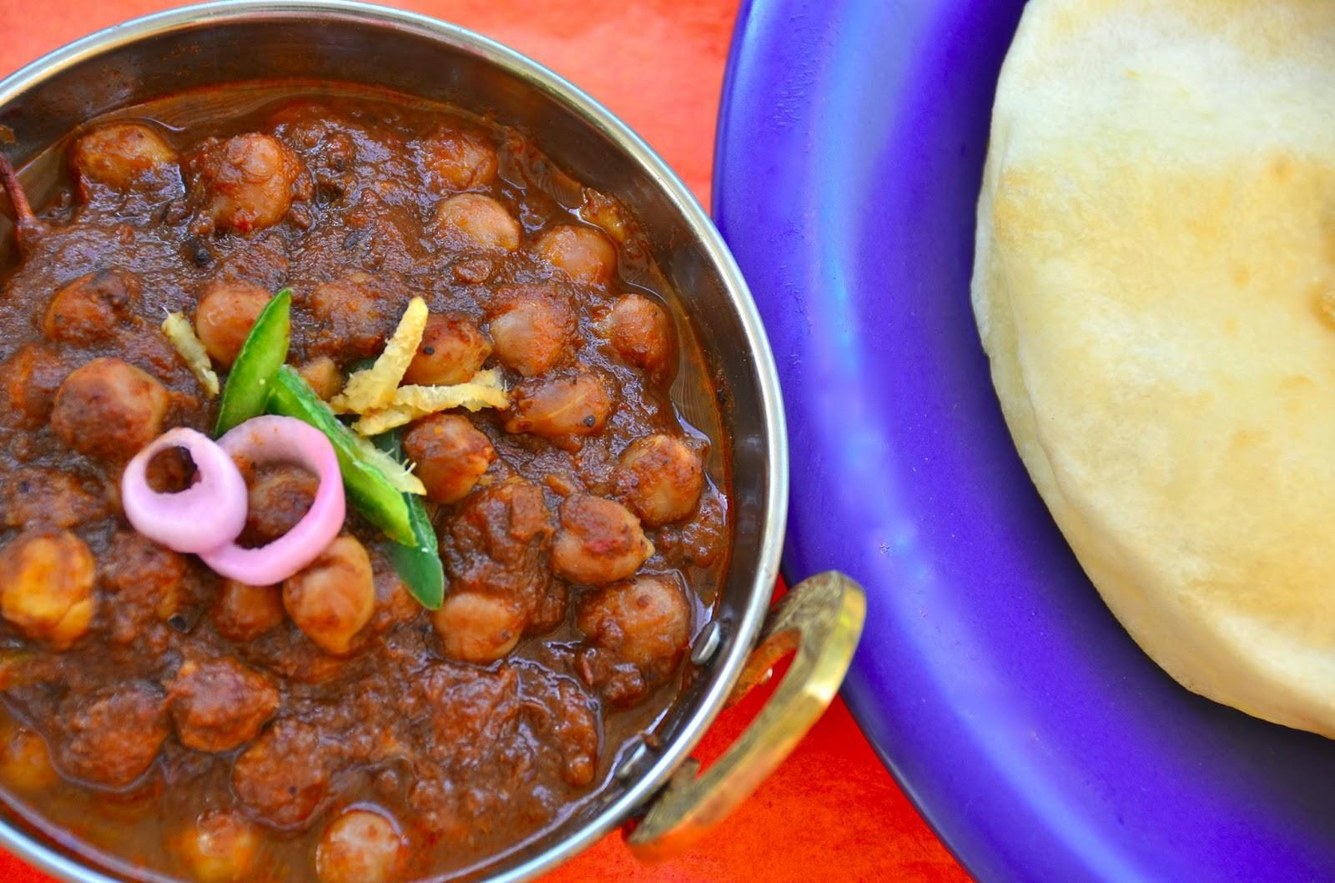Bhatura: (972, 0, 1335, 740)
Chole: (0, 79, 732, 881)
